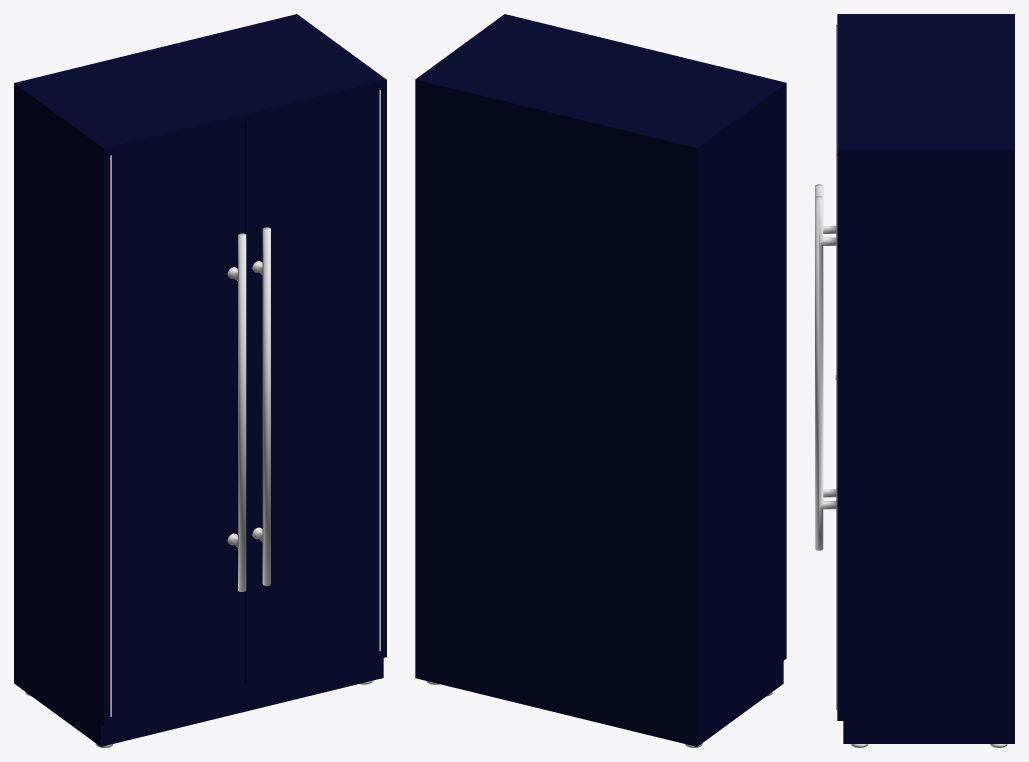
The model's file is tallCabinetLux.glb.
3 views of the same model, side by side, from view 1: azimuth 30°, elevation 25°; view 2: azimuth 150°, elevation 25°; view 3: azimuth 270°, elevation 25° (orthographic).
Parts seen in each view (by area): view 1: doors, baseShell, handles, hinge; view 2: baseShell; view 3: baseShell, handles, hinge.
Part boxes in pixels (left/top/right/bottom): doors: left=110, top=89, right=380, bottom=715; baseShell: left=14, top=14, right=386, bottom=746; handles: left=227, top=227, right=270, bottom=591; hinge: left=110, top=89, right=380, bottom=716; baseShell: left=415, top=14, right=786, bottom=746; baseShell: left=837, top=14, right=1014, bottom=743; handles: left=815, top=184, right=836, bottom=550; hinge: left=836, top=25, right=837, bottom=709.
Size of the model in its own units: 1.02 by 2.08 by 0.6287.
